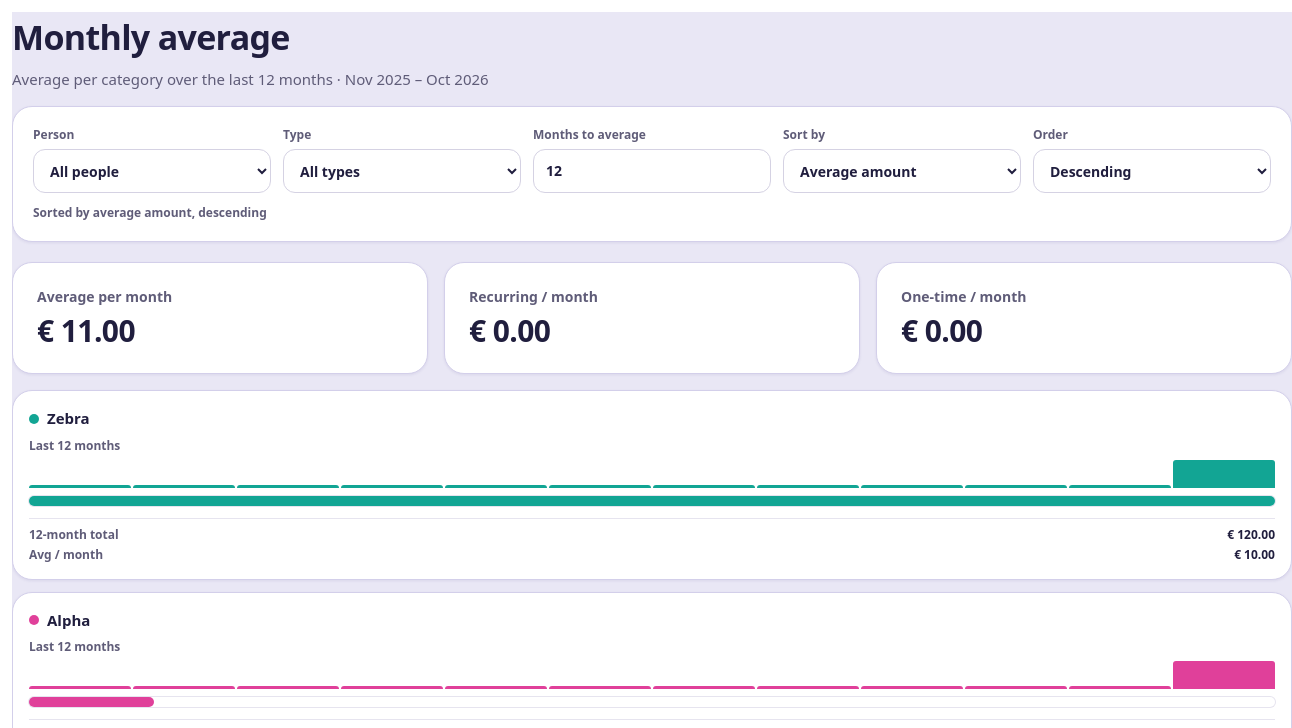
Test: monthly category average page › states and applies the phone sort beside the cards
Select "Category" in the dropdown with test id "monthly-average-sort-column" at (902, 171), box left=783, top=149, right=1021, bottom=193
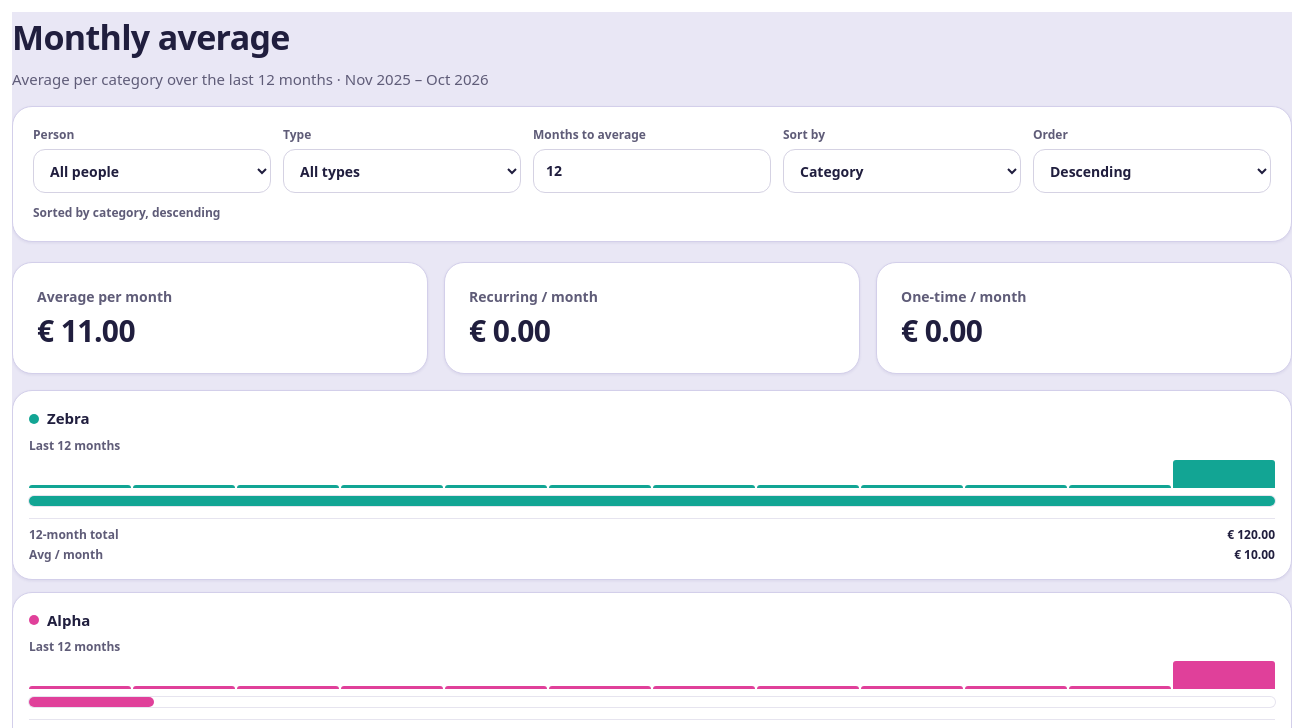
Expected: the text with test id "monthly-average-sort-statement" reads "Sorted by category, descending", left=33, top=204, right=220, bottom=221
Select "Ascending" in the dropdown with test id "monthly-average-sort-direction" at (1152, 171), box left=1033, top=149, right=1271, bottom=193
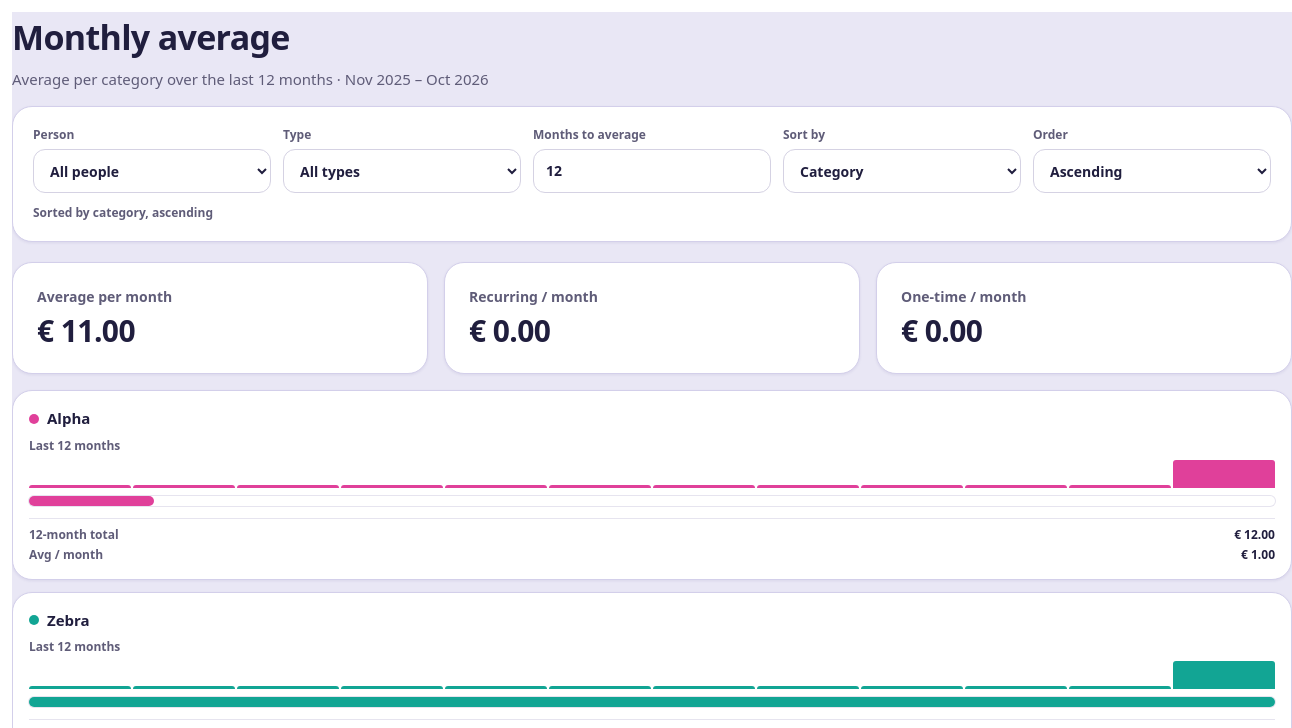
Expected: the text with test id "monthly-average-sort-statement" reads "Sorted by category, ascending", left=33, top=204, right=213, bottom=221
